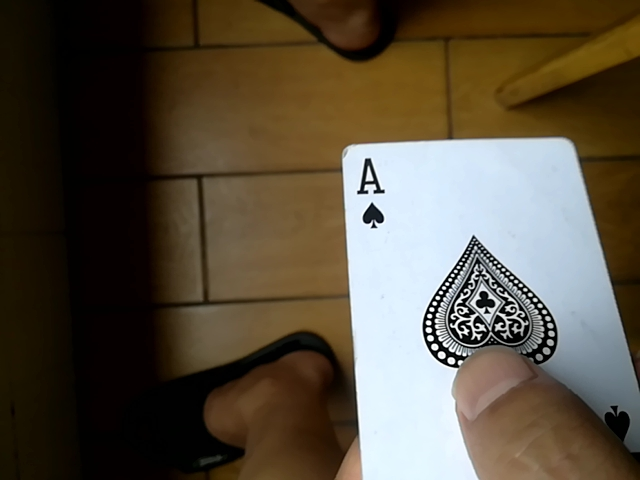ht a: (340, 126, 629, 478)
